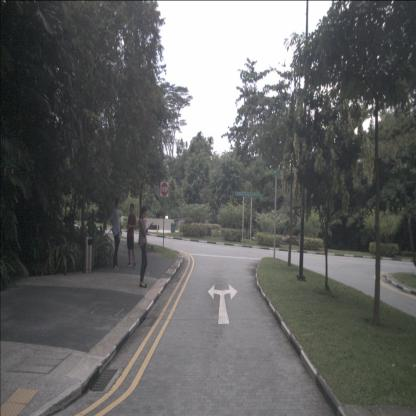human-pedestrian-adult: (138, 206, 154, 288), (111, 199, 123, 271), (126, 203, 138, 271)
movable_object-trafficcone: (156, 224, 159, 233)
